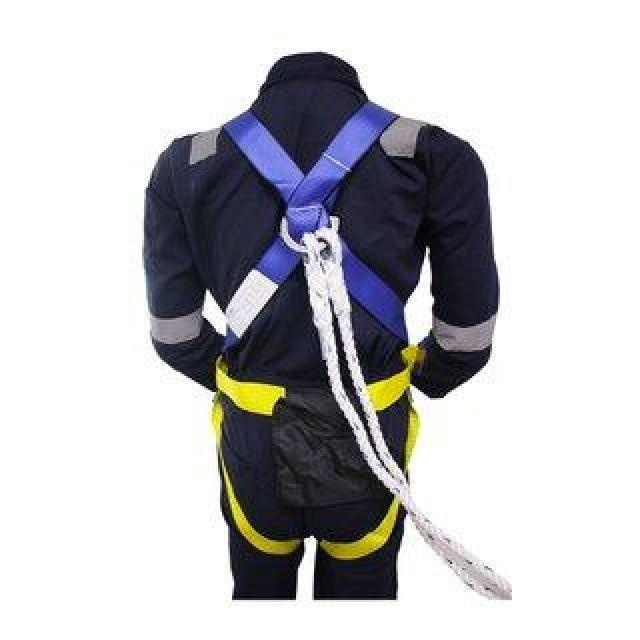Arnes_seguridad: (210, 100, 420, 564)
